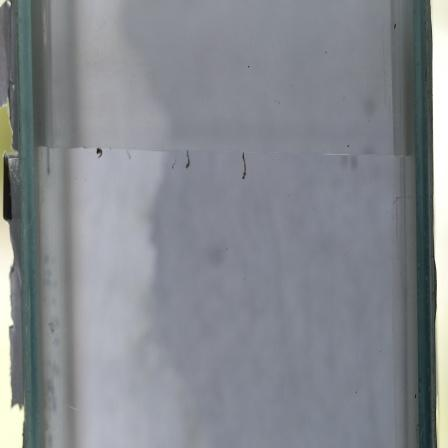Jentik-Nyamuk: (235, 148, 256, 187), (178, 145, 198, 175), (90, 144, 106, 163)
